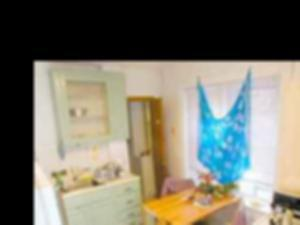Electrodomestico: (235, 196, 300, 225)
